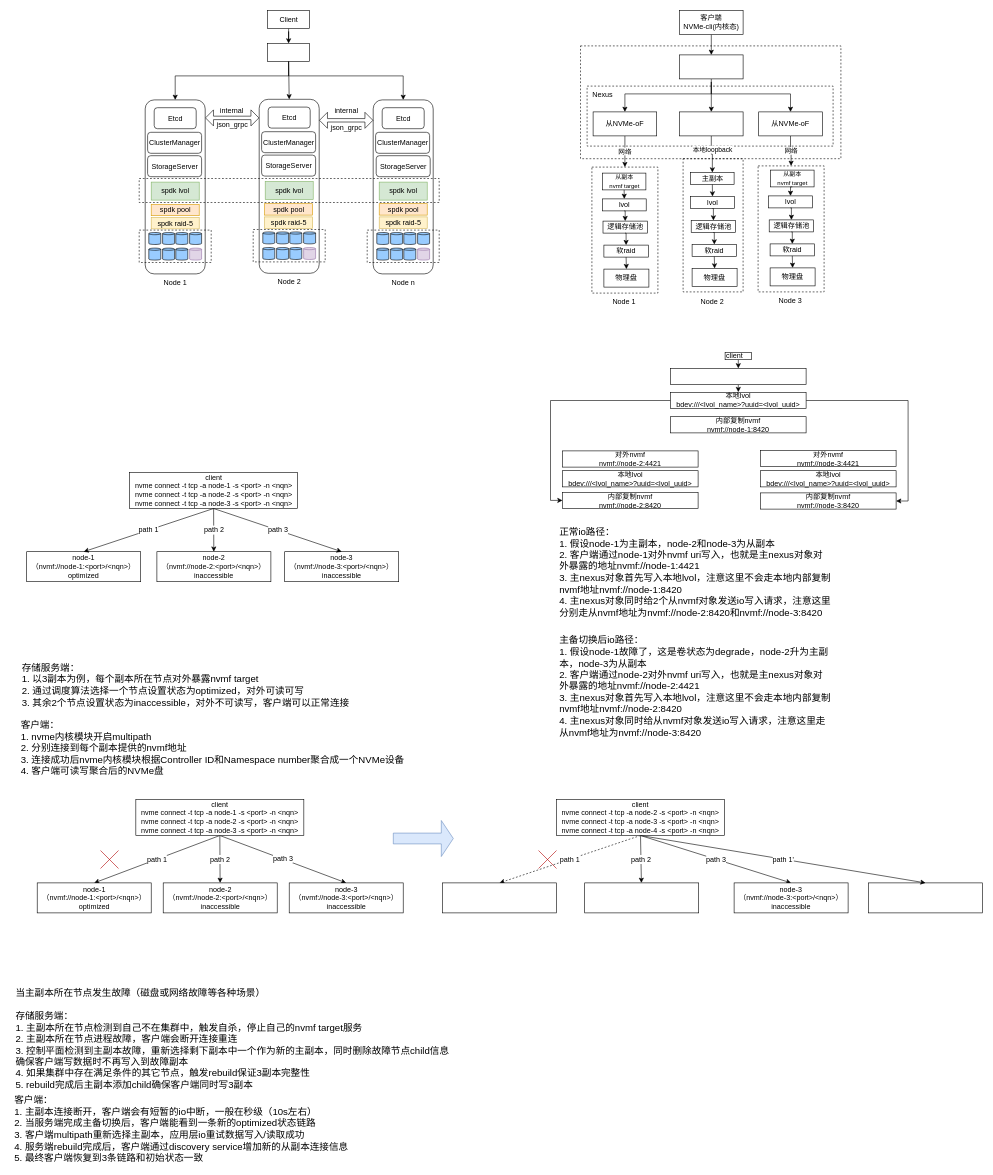
The diagram is 993 pixels wide and 1175 high, and some of its shapes have lost their labels. The centre of each missing label's shape, as x and y in pixels:
"node-1 （nvmf://node-1:<port>/<nqn>） inaccessible" goes at [499,897].
"node-2 （nvmf://node-2:<port>/<nqn>） optimized" goes at [641,897].
"node-4 （nvmf://node-4:<port>/<nqn>） inaccessible" goes at [925,897].
"NVMe-TCP" goes at [288,52].
"主NVMe-oF" goes at [711,123].
"前端 NVMe-oF(用户态)" goes at [711,66].
"对外nvmf nvmf://node-1:4421" goes at [738,376].
